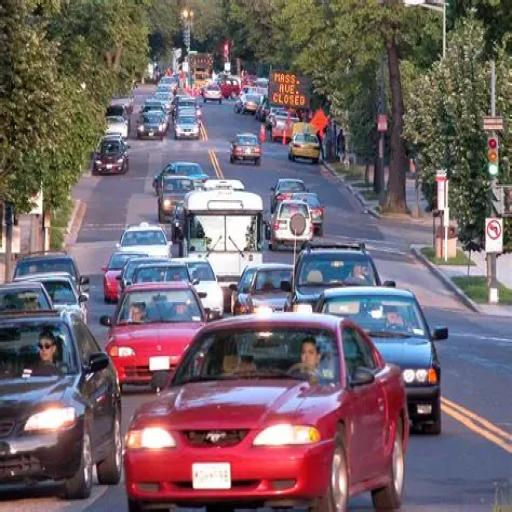car: (123, 308, 411, 510), (306, 280, 465, 436), (0, 307, 124, 499), (314, 281, 448, 434), (110, 278, 208, 390), (293, 236, 392, 320), (16, 270, 95, 328), (234, 258, 301, 317), (13, 249, 91, 294), (281, 186, 332, 236), (0, 282, 66, 320), (273, 196, 314, 250), (120, 220, 170, 264), (154, 175, 200, 213), (94, 132, 129, 178), (228, 127, 266, 166), (272, 166, 309, 203), (288, 131, 328, 165), (140, 108, 168, 146), (176, 110, 202, 146), (234, 84, 262, 116), (270, 102, 296, 136), (105, 109, 132, 136), (199, 81, 222, 105), (155, 83, 173, 108)
person: (285, 336, 323, 383), (337, 123, 348, 165)
traffic light: (486, 136, 498, 177)
